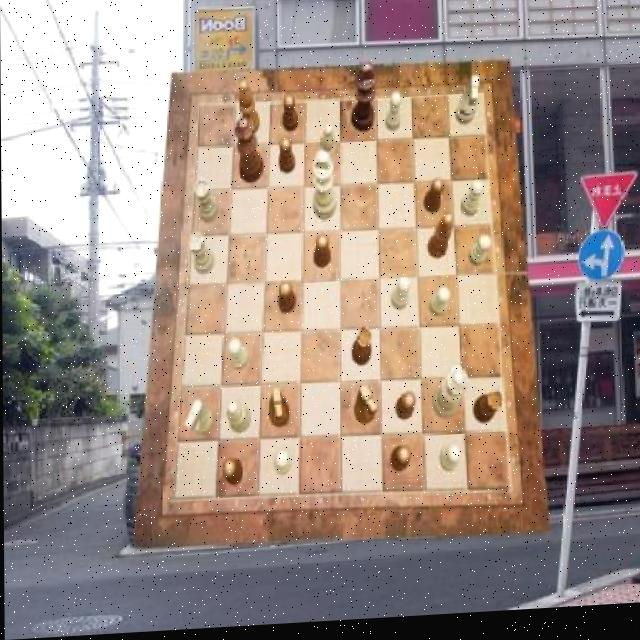bishop: (238, 83, 259, 139), (426, 217, 451, 264)
black-bishop: (350, 66, 376, 136)
black-king: (354, 389, 378, 430), (268, 391, 289, 432)
black-knight: (423, 183, 444, 218), (278, 283, 296, 318), (222, 461, 243, 490), (394, 398, 415, 427), (277, 139, 293, 177), (282, 97, 298, 135), (312, 237, 329, 272), (389, 450, 409, 477)
black-pawn: (235, 120, 262, 188)
black-queen: (471, 395, 503, 431), (351, 331, 371, 370)
black-rook: (317, 127, 337, 182), (226, 404, 251, 437)
white-bishop: (312, 154, 337, 224)
white-king: (455, 82, 479, 131), (184, 401, 212, 437)
white-knight: (460, 186, 483, 223), (468, 240, 491, 272), (389, 281, 409, 316), (384, 97, 401, 138), (228, 341, 249, 374), (429, 293, 450, 323), (439, 449, 460, 478), (273, 451, 291, 478)
white-pawn: (431, 372, 467, 426)
white-queen: (194, 180, 218, 226), (188, 233, 212, 277)
